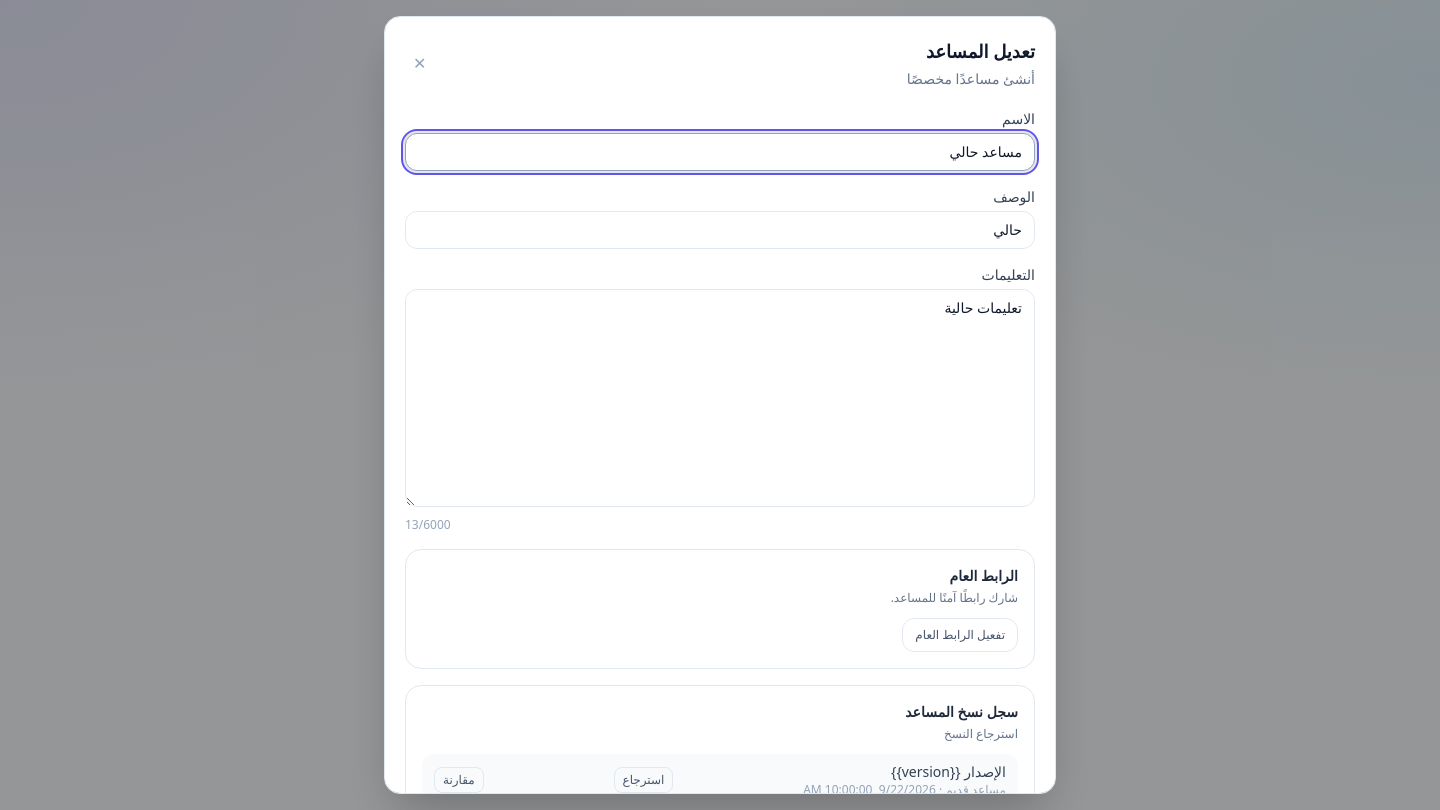
Test: AssistantEditor › keeps a successful restore successful when refreshing version history fails
Click the button "استرجاع" at (643, 780), box left=614, top=767, right=673, bottom=793
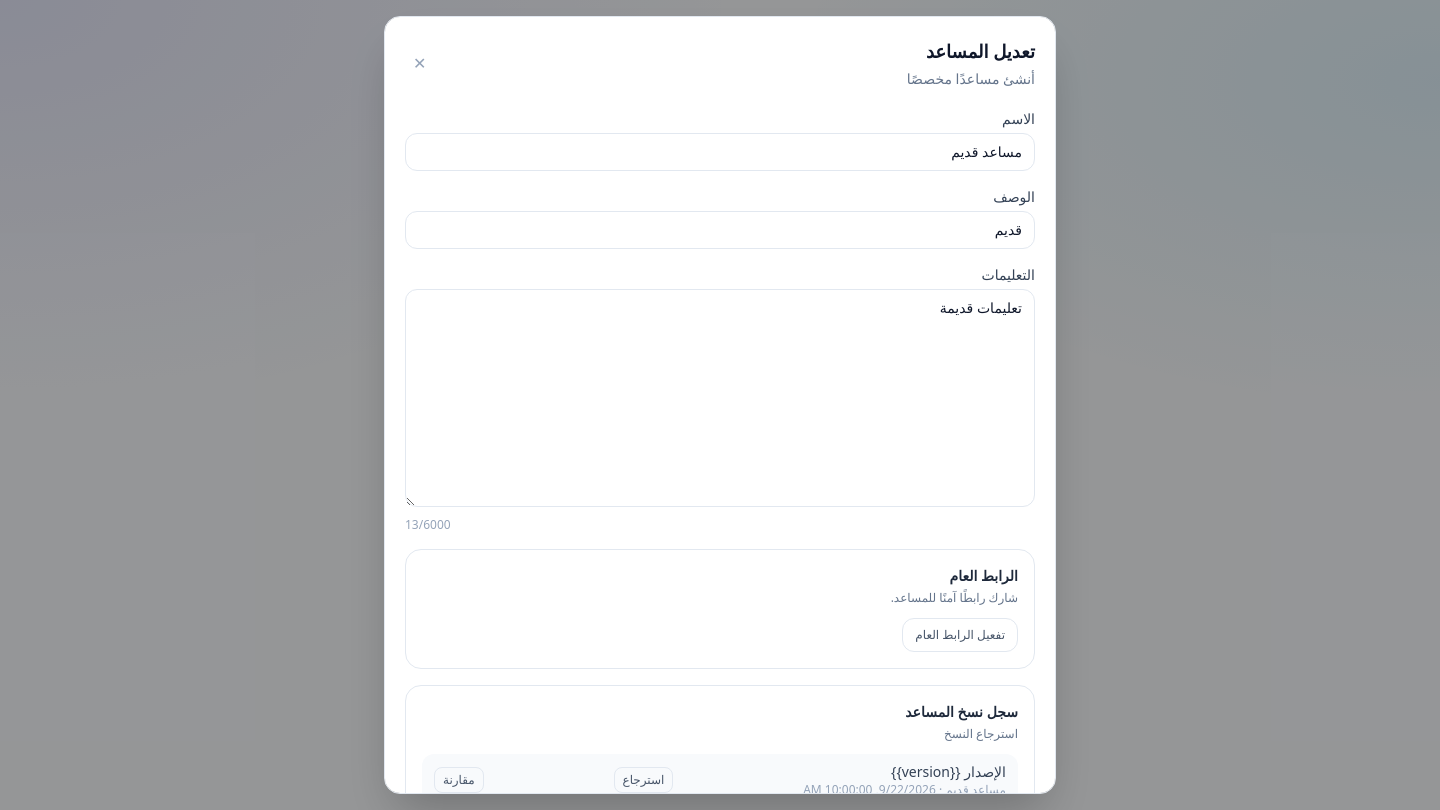
Check: the field showing "مساعد قديم" is shown, box left=405, top=133, right=1035, bottom=171
